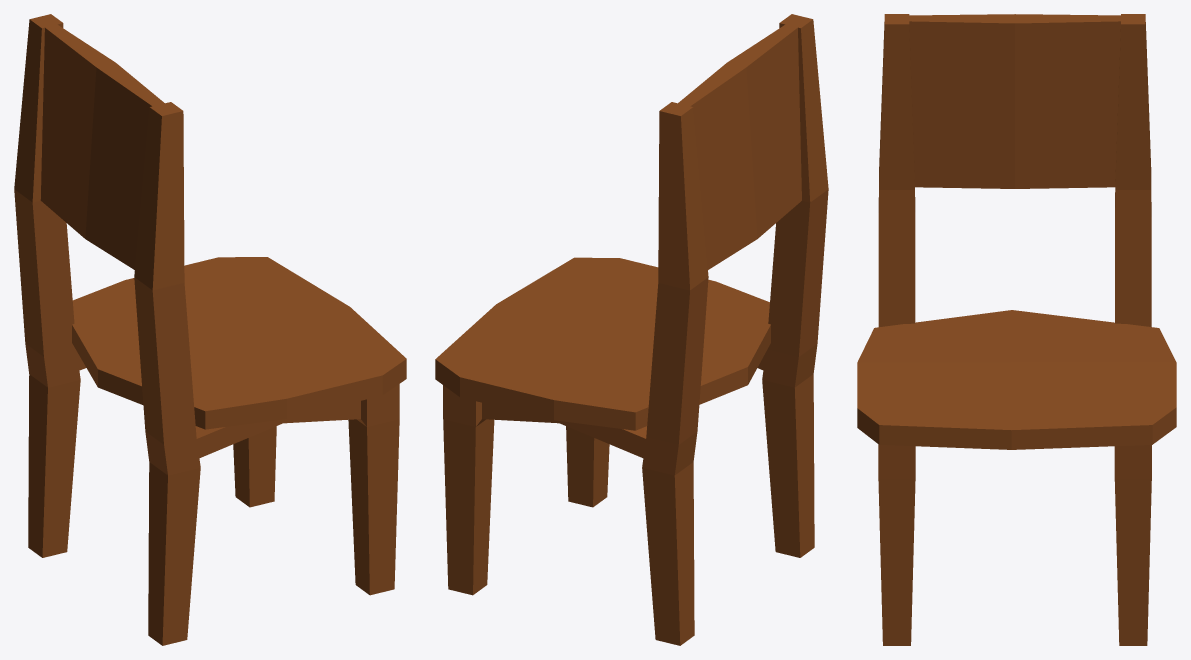
The model's file is env_Cadeira.fbx.
The picture shows the model from 3 angles, left to right: view 1: azimuth 30°, elevation 25°; view 2: azimuth 150°, elevation 25°; view 3: azimuth 270°, elevation 25°; orthographic projection.
Visible parts, largest first — view 1: env_Cadeira; view 2: env_Cadeira; view 3: env_Cadeira.
Part boxes in pixels (box(x1,y1,x2,y2)): env_Cadeira: box(14, 14, 406, 645); env_Cadeira: box(435, 14, 828, 645); env_Cadeira: box(857, 14, 1176, 645).
Bounding box in the file's own units: 495 × 944 × 524.
